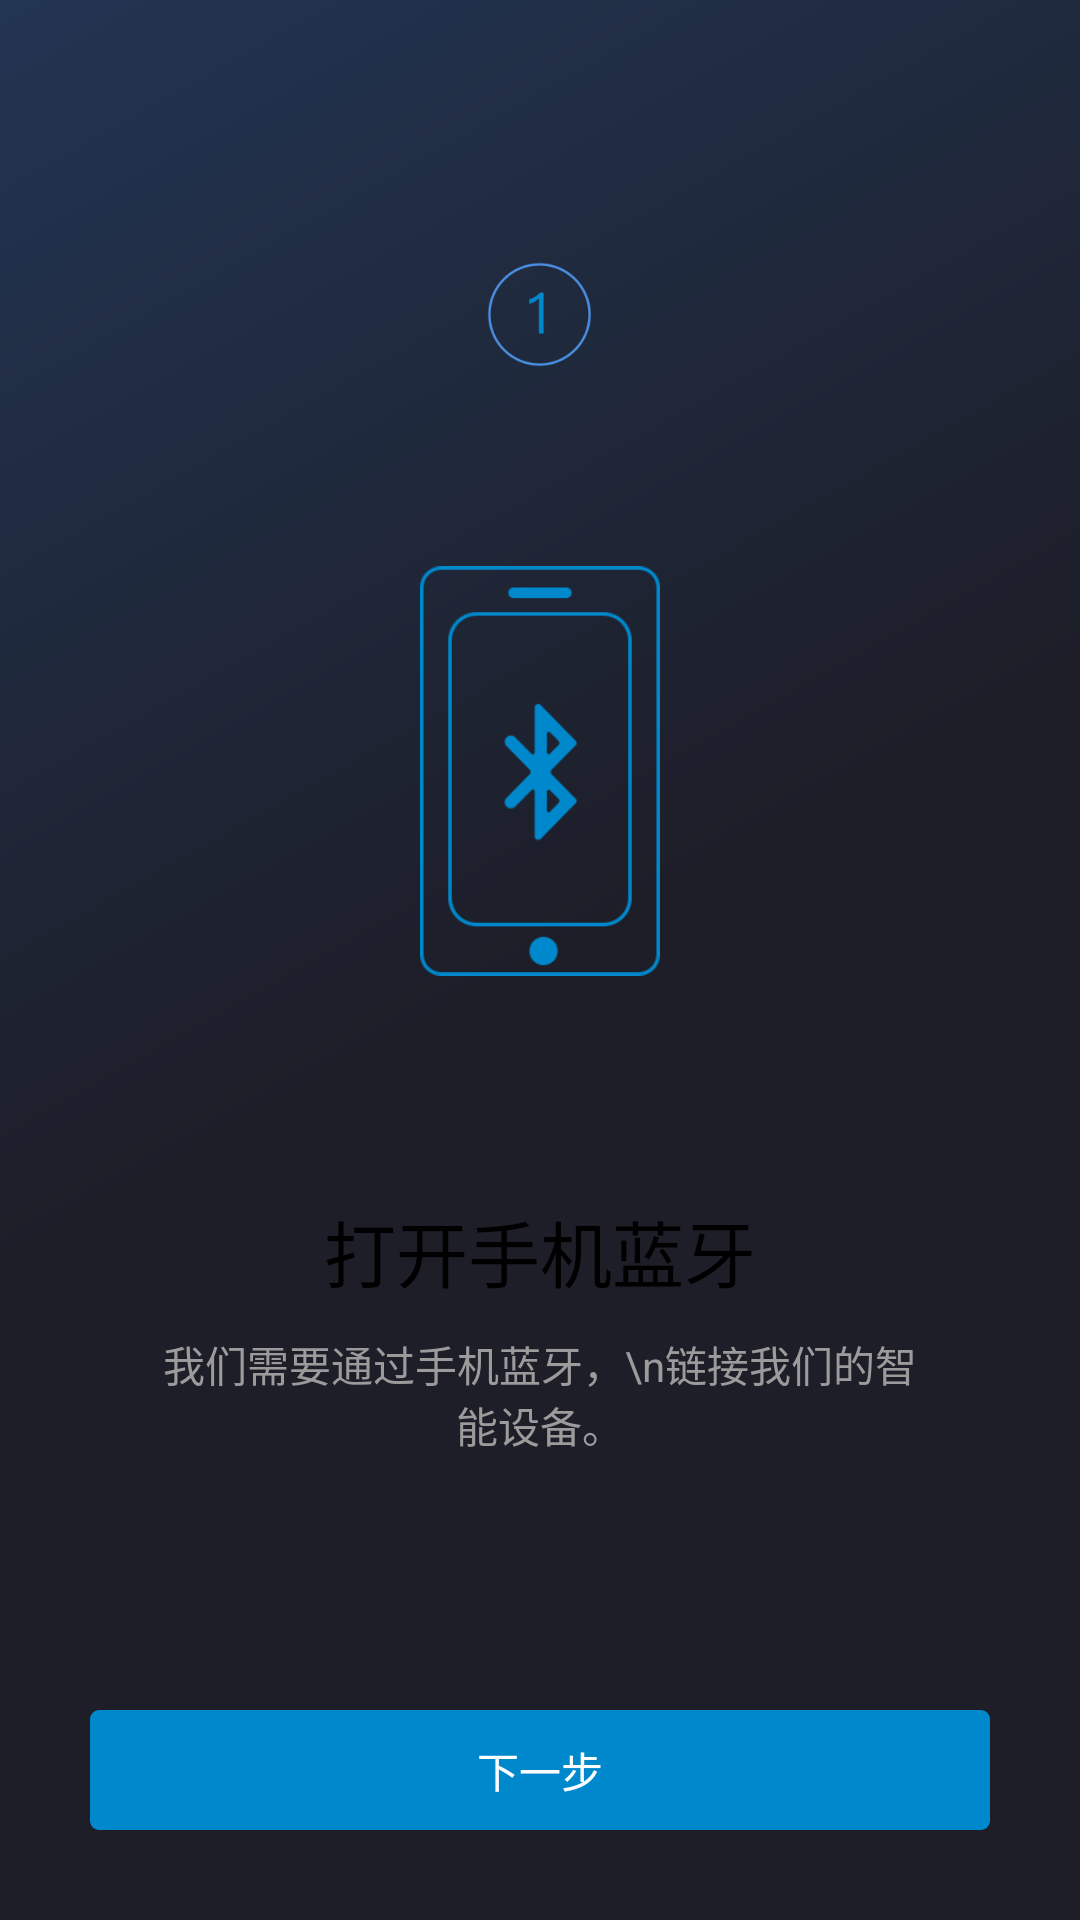

Where to tap for icons on this 1080 × 1920 app screen, as (x,y):
guide num: (539,314)
